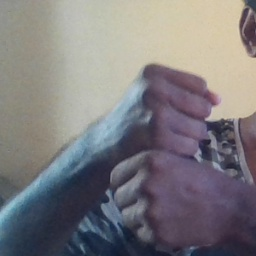G: (101, 59, 225, 251)
